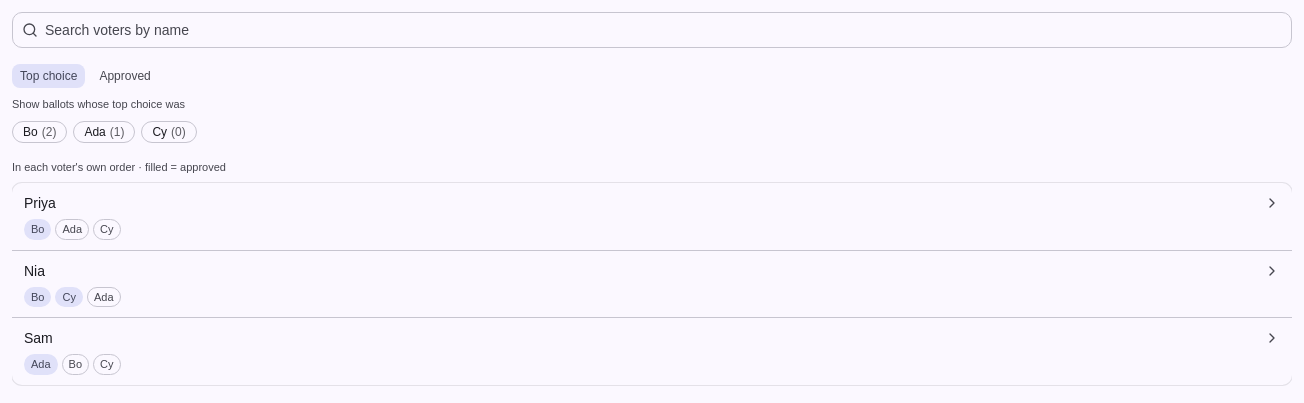
Test: BallotPicker candidate chips (#133) › shows exactly the number of ballots a chip advertises
Click the button with aria-label "Bo, 2 ballots" at (40, 132), box [12,120,67,142]
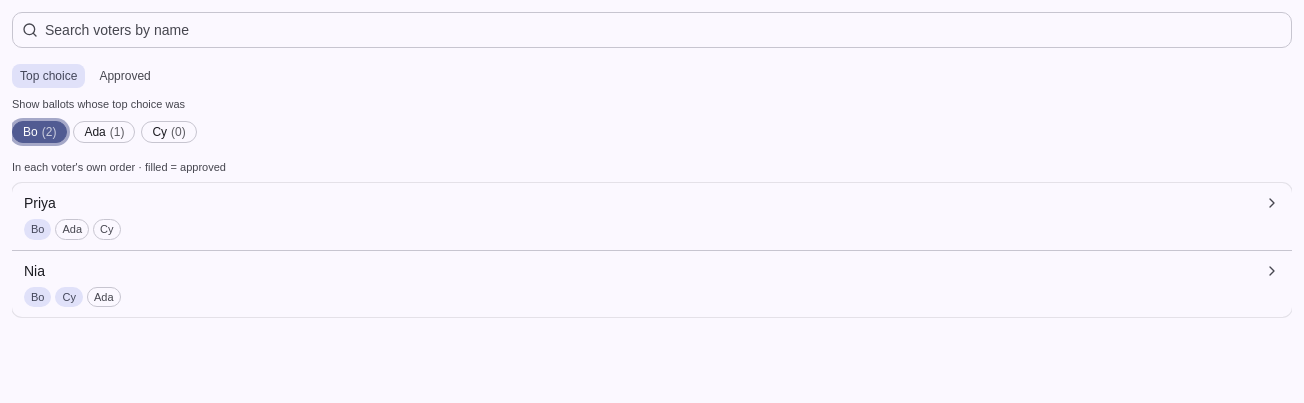
expect the button "Priya" is shown: met, box [24,193,1256,213]
expect the button "Sam" is gone: met
